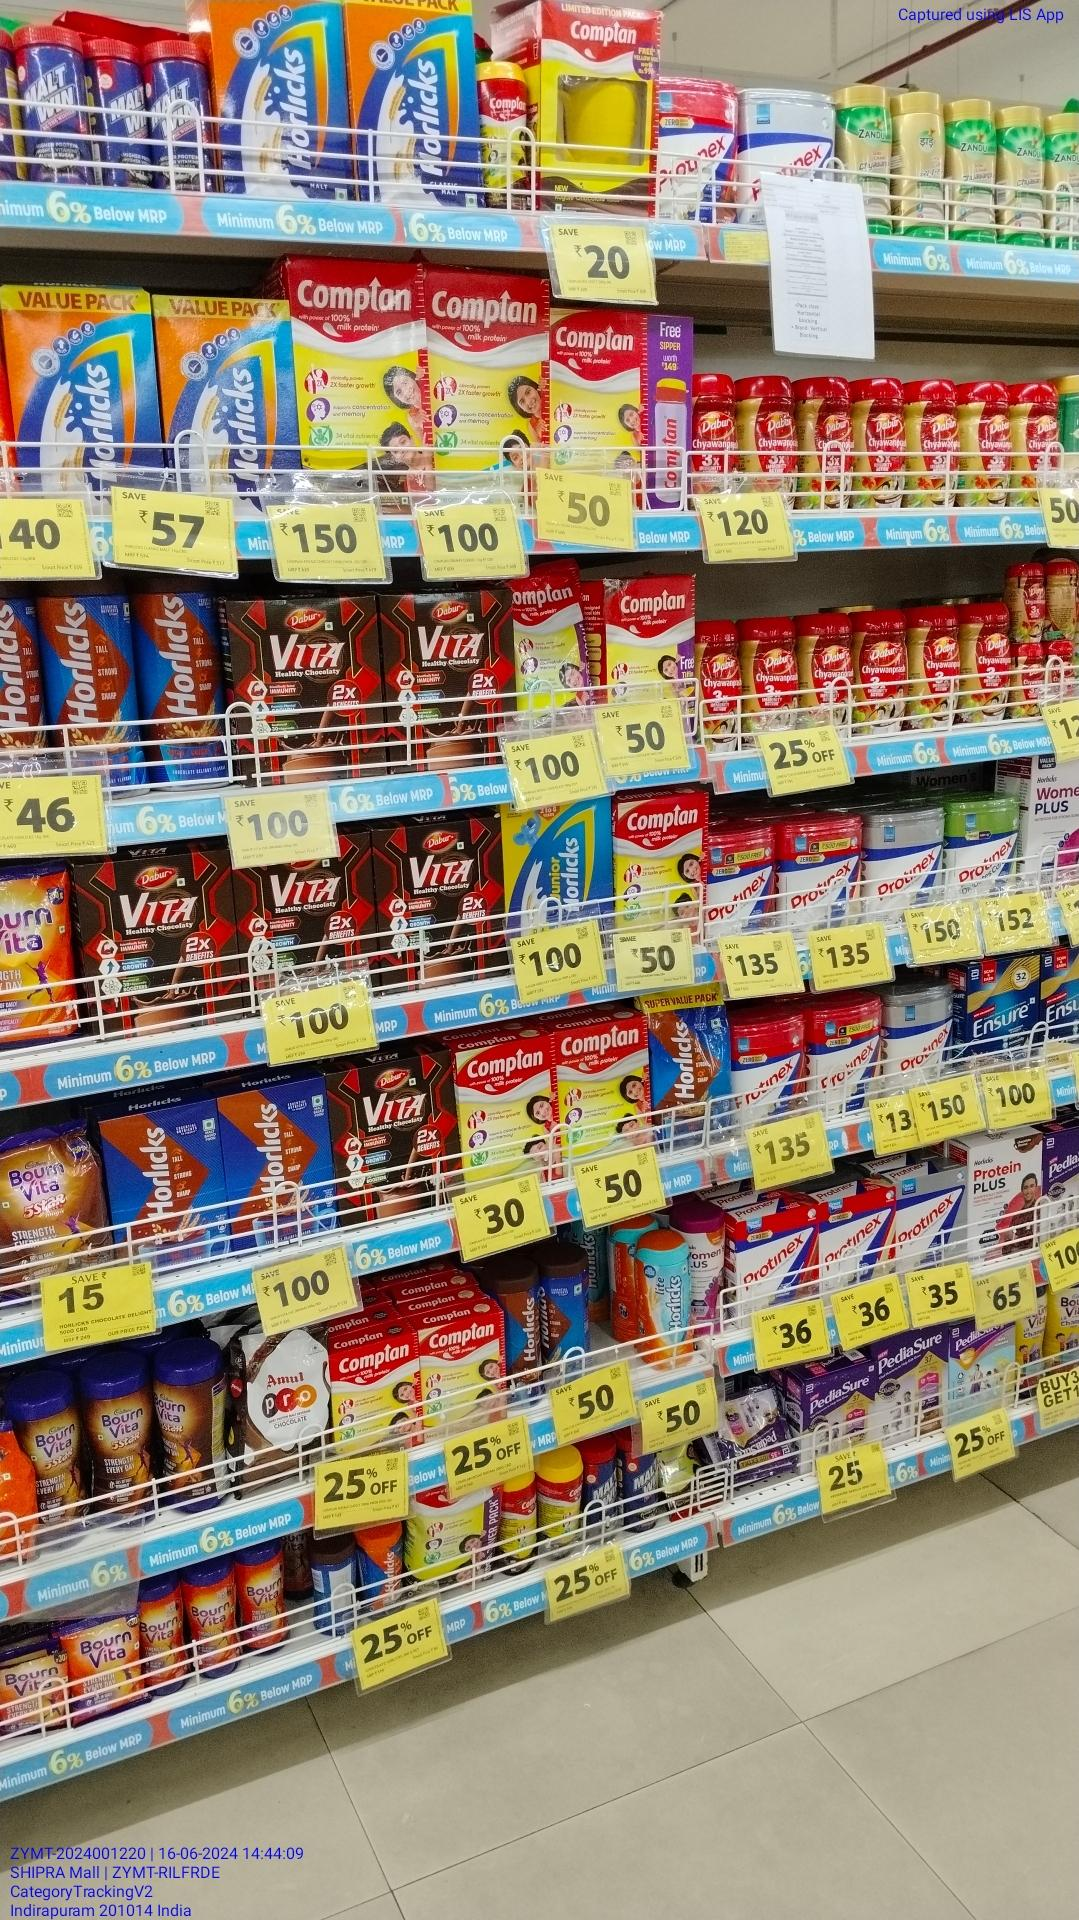BOURN_VITA_200_G_JAR: (140, 1576, 187, 1704), (240, 1544, 288, 1662), (191, 1568, 237, 1684)
BOURN_VITA_75_G_POUCH: (75, 1619, 139, 1726), (3, 1662, 65, 1749)
BOURN_VITA_CHAMPS_500_G_JAR: (1018, 1294, 1049, 1402)
BOURN_VITA_FIVE_STAR_MAGIC_500_G_JAR: (154, 1364, 211, 1520), (90, 1370, 145, 1530), (32, 1387, 86, 1548)
COMPLAN_CHOCOLATE_200_GMS_JAR: (542, 1457, 584, 1565), (508, 1478, 538, 1578)
COMPLAN_RC_POUCH_700_GMS_12: (516, 574, 587, 728), (413, 1489, 495, 1593)
HORLICKS_LITE_REGULAR_MALT_500_GM_JAR: (636, 1242, 691, 1373)
HORLICK_CHOCOLATE_200_G_JAR: (480, 62, 536, 214)
HORLICK_CHOCOLATE_500_G_JAR: (46, 582, 139, 795), (144, 572, 220, 794)
HORLICK_CHOCOLATE_500_G_PACK: (109, 1113, 219, 1271), (226, 1085, 328, 1253), (505, 1276, 541, 1415), (542, 1265, 584, 1379)
HORLICK_CLASSIC_MALT_500_G_PACK: (347, 0, 480, 210), (214, 0, 344, 202)
PEDIASURE_CHOCOLATE_500_G_PACK: (877, 1338, 950, 1439)
PEDIASURE_VANILLA_500_G_PACK: (805, 1373, 875, 1461)
PROTINEX_CHOCOLATE_400_G_JAR: (657, 76, 736, 222), (707, 829, 777, 943), (731, 1021, 805, 1116)
PROTINEX_ORIGINAL_400_G_JAR: (740, 88, 834, 218), (865, 812, 946, 930), (886, 988, 954, 1097)
PROTINEX_VANILLA_400_G_JAR: (778, 812, 856, 940), (809, 1006, 884, 1117)
